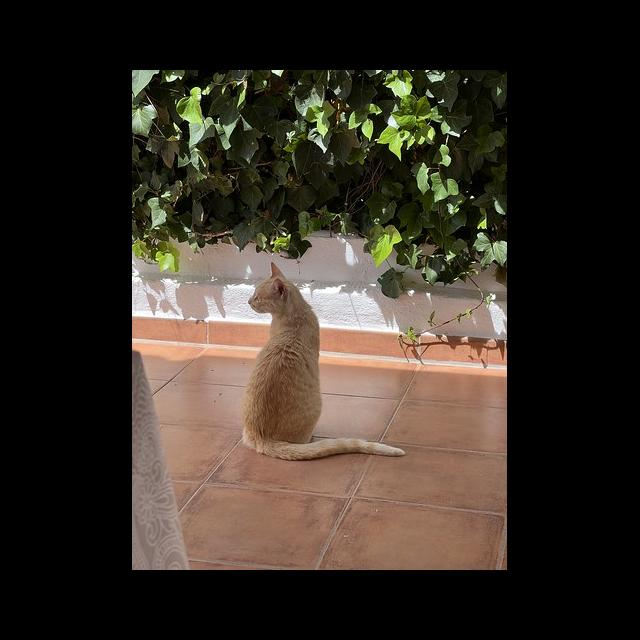animals: (242, 262, 407, 460)
